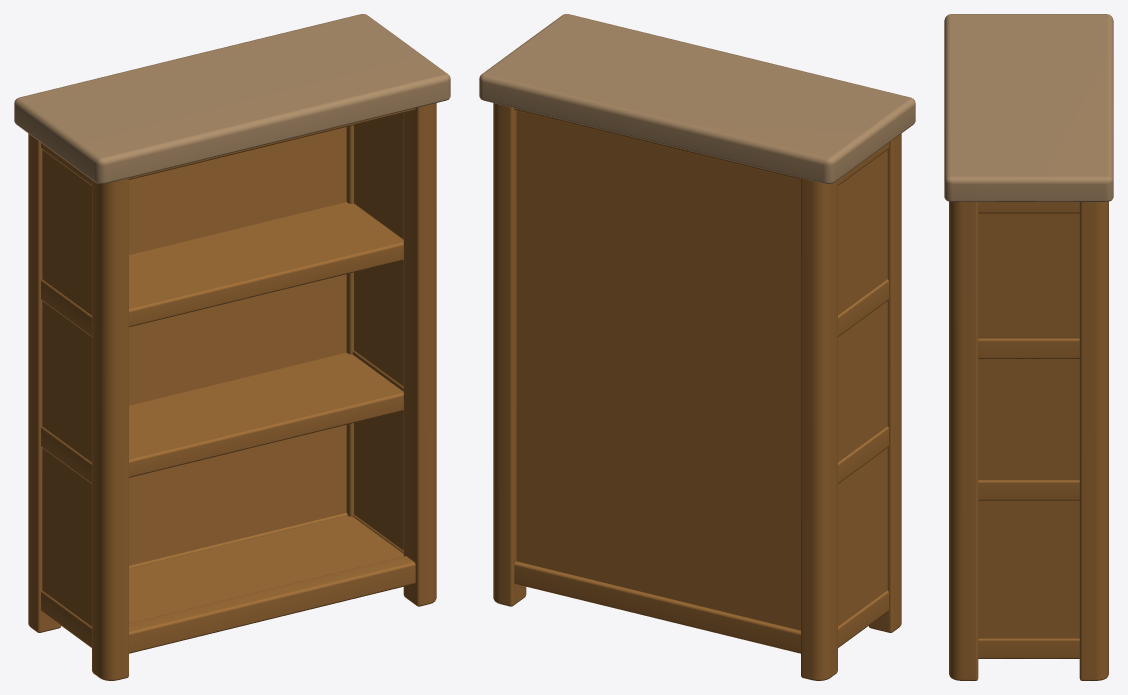
Rendered from SM_Shelf_Wood_02.fbx.
3 renders of one model, left to right at view 1: azimuth 30°, elevation 25°; view 2: azimuth 150°, elevation 25°; view 3: azimuth 270°, elevation 25°, orthographic. The views are drawn at different scales.
Parts seen in each view (by area): view 1: Cube.017, Cube.020, Cube.018, Cube.019, Cube.021; view 2: Cube.020, Cube.017, Cube.019, Cube.018; view 3: Cube.018, Cube.017, Cube.019.
Boxes of the visible parts, x1,y1,x2,y2 form: Cube.017: [28, 103, 436, 680]; Cube.020: [129, 127, 346, 565]; Cube.018: [42, 113, 403, 626]; Cube.019: [14, 14, 450, 183]; Cube.021: [129, 202, 403, 477]; Cube.020: [516, 111, 800, 630]; Cube.017: [493, 103, 901, 680]; Cube.019: [479, 14, 915, 183]; Cube.018: [838, 150, 887, 626]; Cube.018: [978, 213, 1079, 638]; Cube.017: [949, 201, 1108, 680]; Cube.019: [944, 14, 1113, 201].
Bounding box in the file's own units: 148 × 210 × 63.49.
